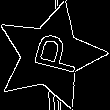P_W: (20, 32, 80, 80)
